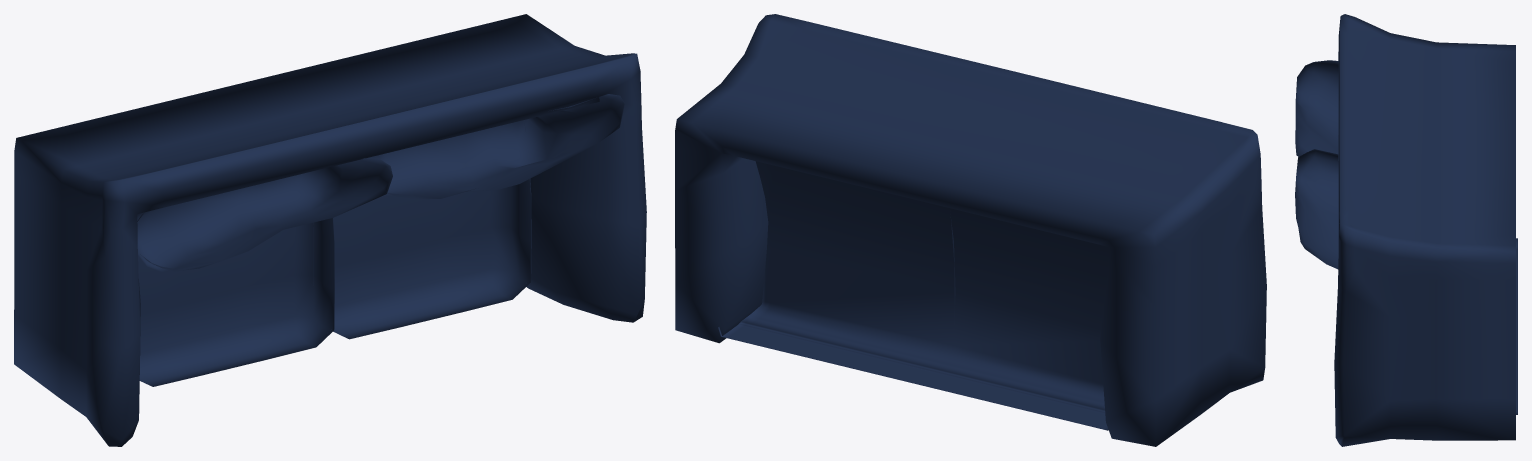
Rendered from Fp218_Sofa4Sofa_218_0.obj.
3 renders of one model, left to right at view 1: azimuth 30°, elevation 25°; view 2: azimuth 150°, elevation 25°; view 3: azimuth 270°, elevation 25°, orthographic. The views are drawn at different scales.
Parts seen in each view (by area): view 1: Sofa_218; view 2: Sofa_218; view 3: Sofa_218.
Boxes of the visible parts, x1,y1,x2,y2 form: Sofa_218: (14, 14, 646, 446); Sofa_218: (675, 14, 1266, 446); Sofa_218: (1295, 14, 1517, 446).
Size of the model in its own units: 2.63 by 1.23 by 1.12.
